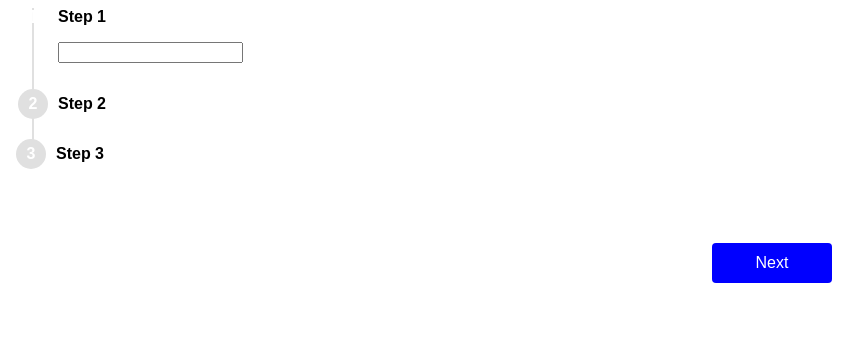
Test: VerticalStepper Component › shows validation error on empty input
# Try to proceed without input (force click since button is disabled)
Click the button with test id "test-stepper-continue-button-0": x=772, y=263 [712,243,832,283]
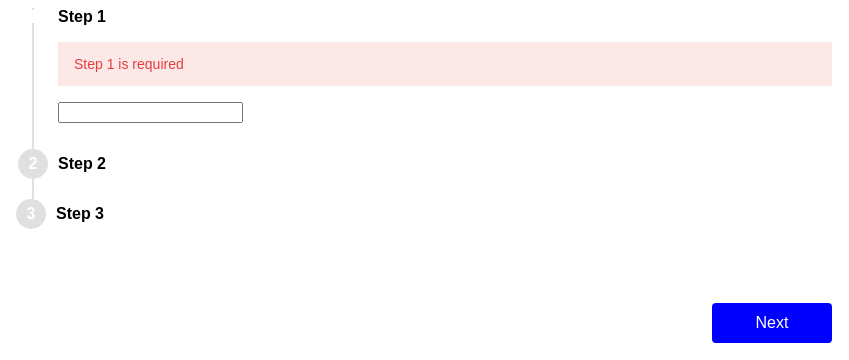
Check: the text "Step 1 is required" is shown, box [58,42,832,86]
Check: the text with test id "test-stepper-validation-error" reads "Step 1 is required", box [74,56,184,72]
